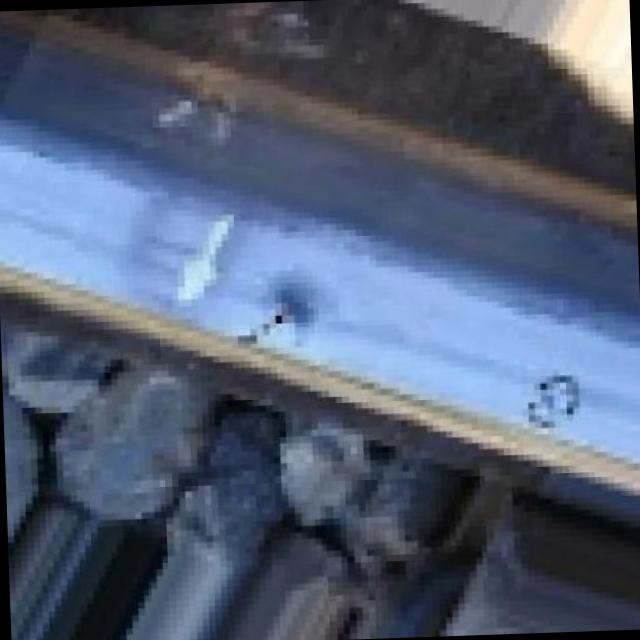defective: (65, 257, 630, 486)
